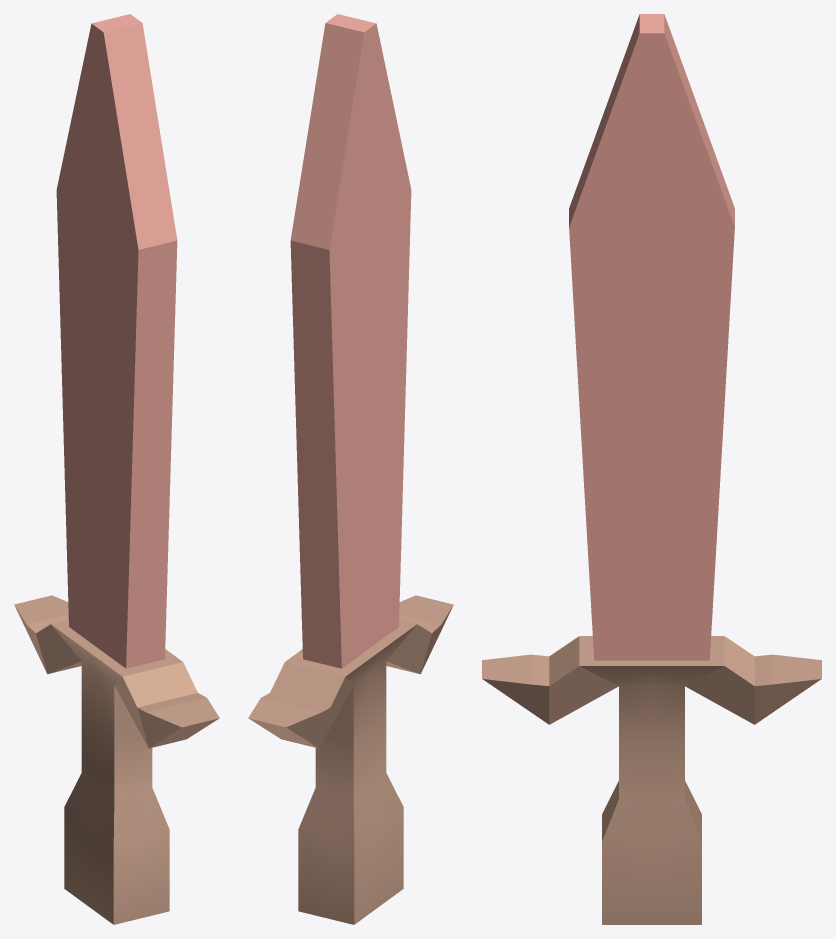
The model's file is copper-sword.fbx.
3 renders of one model, left to right at view 1: azimuth 30°, elevation 25°; view 2: azimuth 150°, elevation 25°; view 3: azimuth 270°, elevation 25°, orthographic.
Parts seen in each view (by area): view 1: sword; view 2: sword; view 3: sword.
Boxes of the visible parts, x1,y1,x2,y2 form: sword: (14, 14, 219, 924); sword: (248, 14, 453, 924); sword: (482, 14, 821, 924).
Size of the model in its own units: 18.67 by 258 by 89.67.
